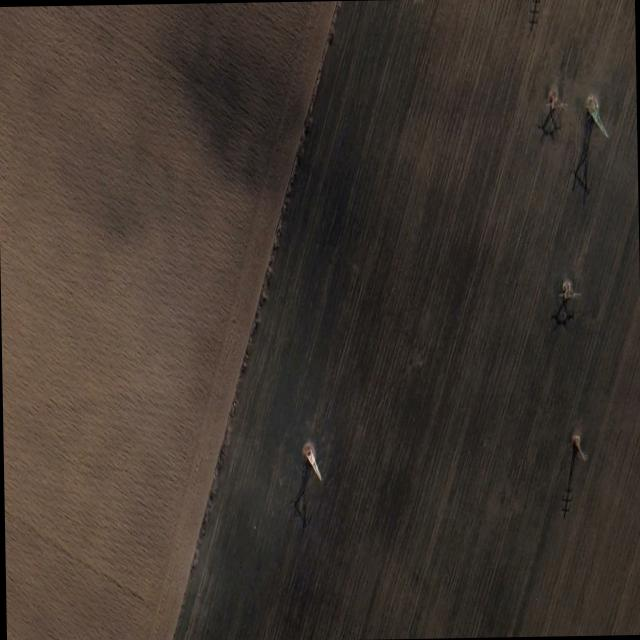bare-soil: (0, 0, 334, 640)
building: (559, 431, 585, 515), (550, 277, 578, 329), (537, 88, 559, 139), (584, 94, 607, 136), (301, 441, 320, 479)
grass: (169, 0, 640, 640)
